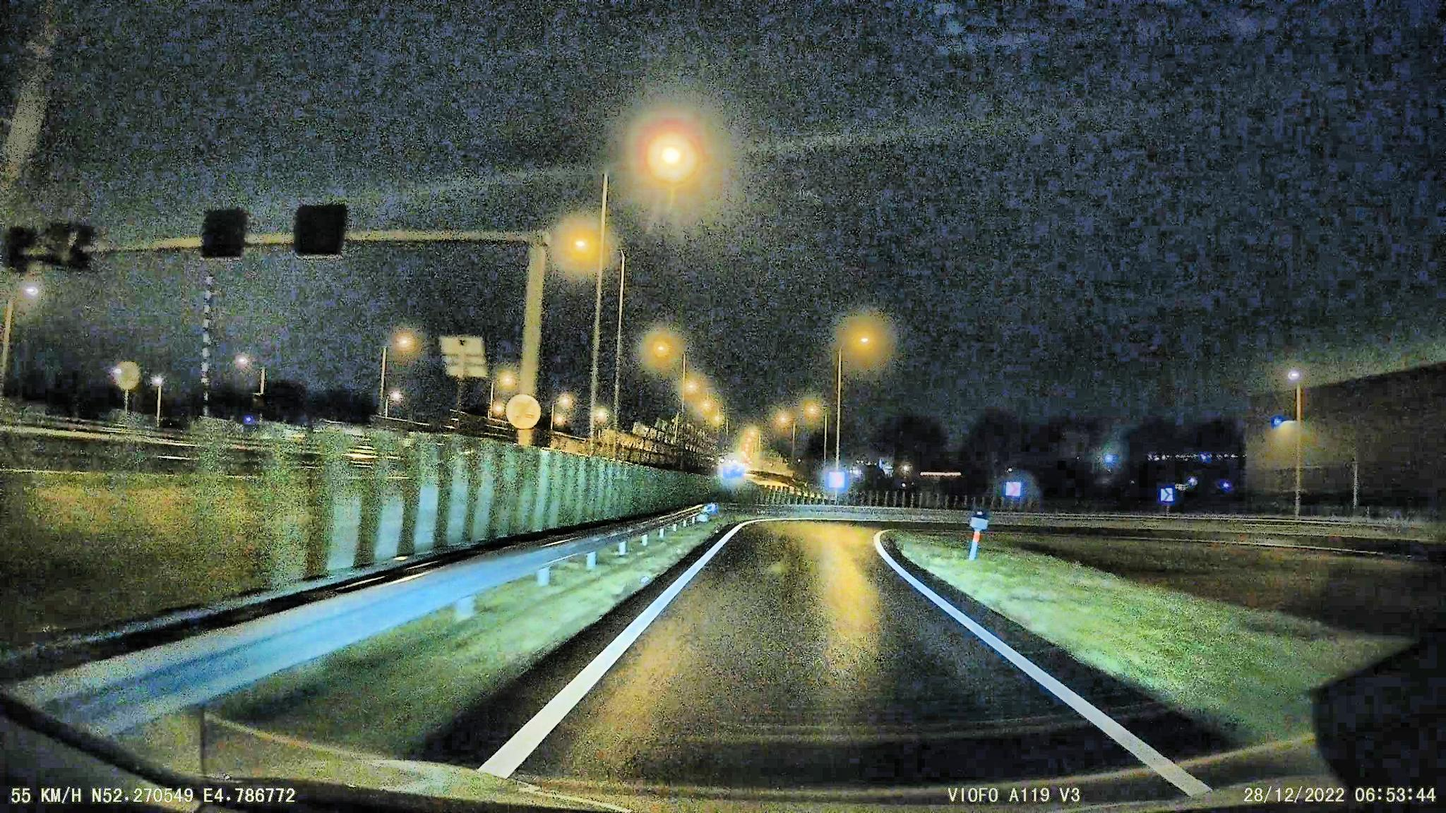Roads: (504, 522, 1171, 808)
